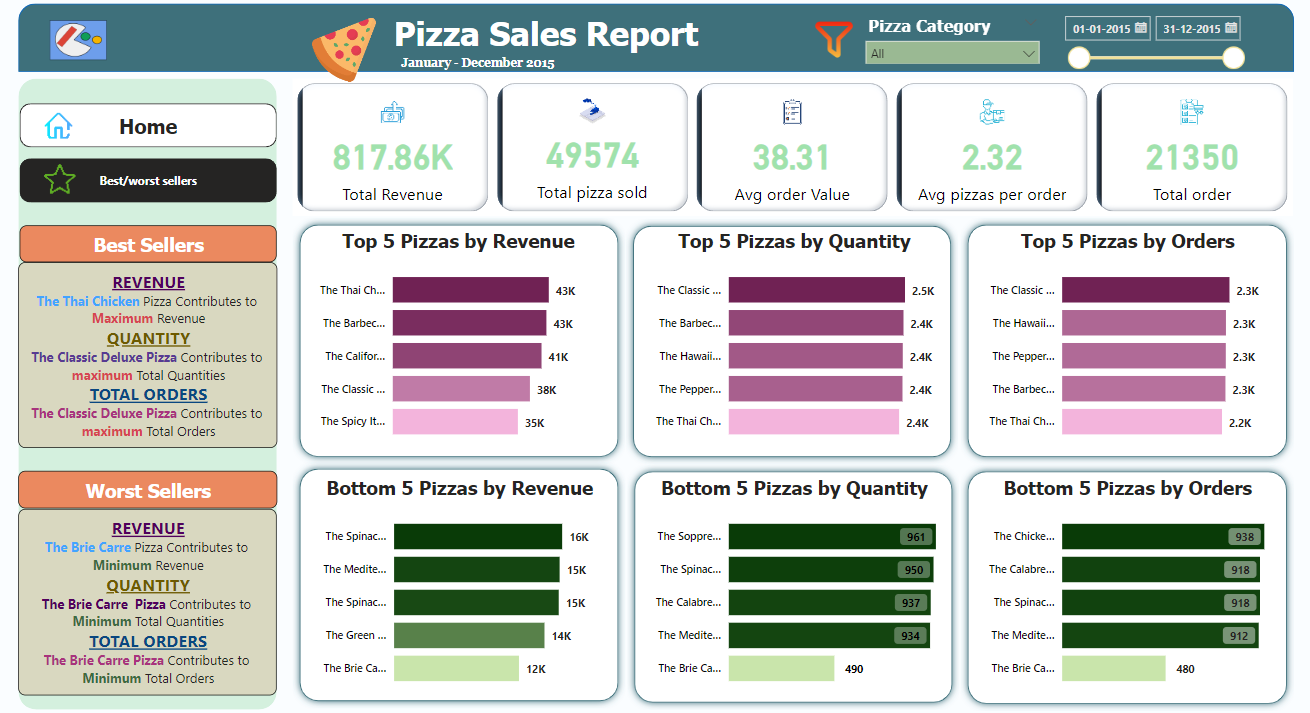

This screenshot's page, from the dashboard's own definition file:
{"tool":"powerbi","page":{"name":"Best/worst sellers","canvas":[1500,820],"ordinal":1},"visuals":[{"type":"shape","box":[25.3,92.4,293.6,716.9],"z":0},{"type":"cardVisual","fields":{"Data":["pizza_sales.Total_Revenue","pizza_sales.Total_pizza_sold","pizza_sales.Avg_order","pizza_sales.Avg_pizzas_per_order","pizza_sales.Total order"]},"box":[336.9,92.4,1135.8,156.5],"z":1000},{"type":"shape","box":[25.3,7.5,1448.8,77.5],"z":2000},{"type":"textbox","box":[438.2,13.4,372.6,58.1],"z":3000},{"type":"image","box":[351.8,11.9,86.5,95.4],"z":4000},{"type":"textbox","box":[450.1,59.6,193.8,32.8],"z":5000},{"type":"shape","box":[336.9,250.4,378,280],"z":6000},{"type":"shape","box":[337.5,527.4,378,280.1],"z":7000},{"type":"shape","box":[717.3,530.1,377.1,278.7],"z":8000},{"type":"shape","box":[1095.8,530.1,378.5,280.1],"z":9000},{"type":"textbox","box":[26.2,259.4,291.5,42.3],"z":10000},{"type":"textbox","box":[24.8,301.7,294.4,211.3],"z":11000},{"type":"textbox","box":[26,538.3,293.8,42.4],"z":12000},{"type":"textbox","box":[25.3,581.3,293.6,211.7],"z":13000},{"type":"slicer","fields":{"Values":["pizza_sales.order_date"]},"box":[1201.4,11.9,225.1,77.5],"z":14000},{"type":"slicer","fields":{"Values":["pizza_sales.pizza_category"]},"box":[977.8,14.9,217.6,61.1],"z":15000},{"type":"shape","box":[716,251.4,377.1,278.7],"z":16000},{"type":"shape","box":[1095.8,250,378.5,280.1],"z":17000},{"type":"barChart","title":"Top 5 Pizzas by Revenue","fields":{"Category":["pizza_sales.pizza_name"],"Y":["pizza_sales.Total Revenue"]},"box":[349.7,263.8,349.7,253.6],"z":18000},{"type":"barChart","title":"Bottom 5 Pizzas by Revenue","fields":{"Category":["pizza_sales.pizza_name"],"Y":["pizza_sales.Total Revenue"]},"box":[351.2,543.6,349.7,253.6],"z":19000},{"type":"barChart","title":"Top 5 Pizzas by Quantity","fields":{"Category":["pizza_sales.pizza_name"],"Y":["pizza_sales.Total pizza sold"]},"box":[731.5,263.8,349.7,253.6],"z":20000},{"type":"barChart","title":"Top 5 Pizzas by Orders","fields":{"Category":["pizza_sales.pizza_name"],"Y":["pizza_sales.Total order"]},"box":[1110.4,263.8,349.7,253.6],"z":21000},{"type":"barChart","title":"Bottom 5 Pizzas by Quantity","fields":{"Category":["pizza_sales.pizza_name"],"Y":["pizza_sales.Total pizza sold"]},"box":[731.5,543.6,349.7,253.6],"z":22000},{"type":"barChart","title":"Bottom 5 Pizzas by Orders","fields":{"Category":["pizza_sales.pizza_name"],"Y":["pizza_sales.Total order"]},"box":[1110.4,543.6,349.7,253.6],"z":23000},{"type":"pageNavigator","box":[26.8,120.7,292.1,50.7],"z":24000},{"type":"pageNavigator","box":[26.8,183.3,292.1,50.7],"z":25000},{"type":"image","box":[44.7,125.2,52.2,41.7],"z":26000},{"type":"image","box":[916.7,11.9,70.1,71.5],"z":27000},{"type":"image","box":[47.7,183.3,49.2,46.2],"z":28000},{"type":"image","box":[8.9,4.5,165.4,87.9],"z":28001}]}

Visuals, with their boxes in screenshot pixels (x1, y1, x2, y2), scaled from the page's 1500x820 canvas onto the 1310x713 screenshot:
shape: (left=22, top=80, right=279, bottom=704)
cardVisual - pizza_sales.Total_Revenue x pizza_sales.Total_pizza_sold: (left=294, top=80, right=1286, bottom=216)
shape: (left=22, top=7, right=1287, bottom=74)
textbox: (left=383, top=12, right=708, bottom=62)
image: (left=307, top=10, right=383, bottom=93)
textbox: (left=393, top=52, right=562, bottom=80)
shape: (left=294, top=218, right=624, bottom=461)
shape: (left=295, top=459, right=625, bottom=702)
shape: (left=626, top=461, right=956, bottom=703)
shape: (left=957, top=461, right=1288, bottom=704)
textbox: (left=23, top=226, right=277, bottom=262)
textbox: (left=22, top=262, right=279, bottom=446)
textbox: (left=23, top=468, right=279, bottom=505)
textbox: (left=22, top=505, right=279, bottom=690)
slicer - pizza_sales.order_date: (left=1049, top=10, right=1246, bottom=78)
slicer - pizza_sales.pizza_category: (left=854, top=13, right=1044, bottom=66)
shape: (left=625, top=219, right=955, bottom=461)
shape: (left=957, top=217, right=1288, bottom=461)
"Top 5 Pizzas by Revenue" barChart: (left=305, top=229, right=611, bottom=450)
"Bottom 5 Pizzas by Revenue" barChart: (left=307, top=473, right=612, bottom=693)
"Top 5 Pizzas by Quantity" barChart: (left=639, top=229, right=944, bottom=450)
"Top 5 Pizzas by Orders" barChart: (left=970, top=229, right=1275, bottom=450)
"Bottom 5 Pizzas by Quantity" barChart: (left=639, top=473, right=944, bottom=693)
"Bottom 5 Pizzas by Orders" barChart: (left=970, top=473, right=1275, bottom=693)
pageNavigator: (left=23, top=105, right=279, bottom=149)
pageNavigator: (left=23, top=159, right=279, bottom=203)
image: (left=39, top=109, right=85, bottom=145)
image: (left=801, top=10, right=862, bottom=73)
image: (left=42, top=159, right=85, bottom=200)
image: (left=8, top=4, right=152, bottom=80)
